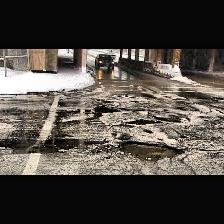pothole: (116, 141, 184, 163), (0, 137, 82, 155), (148, 114, 190, 124), (94, 104, 120, 114), (125, 119, 161, 125)
